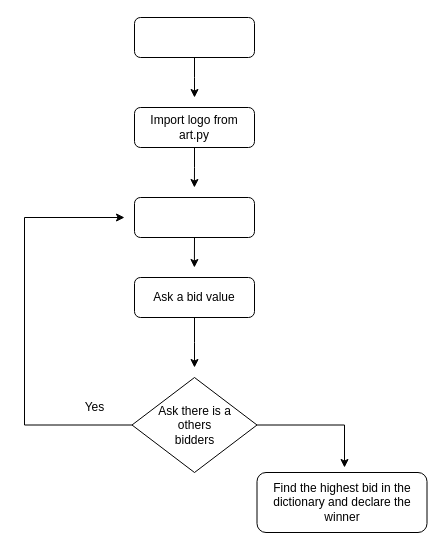
Some shapes in this 445 by 550 pixel diagram are drawn without their labels. Here are the shapes that lost their labels. From the top down, the box of each, then its label:
(134, 16, 254, 58): START
(134, 196, 254, 238): Ask a name input
